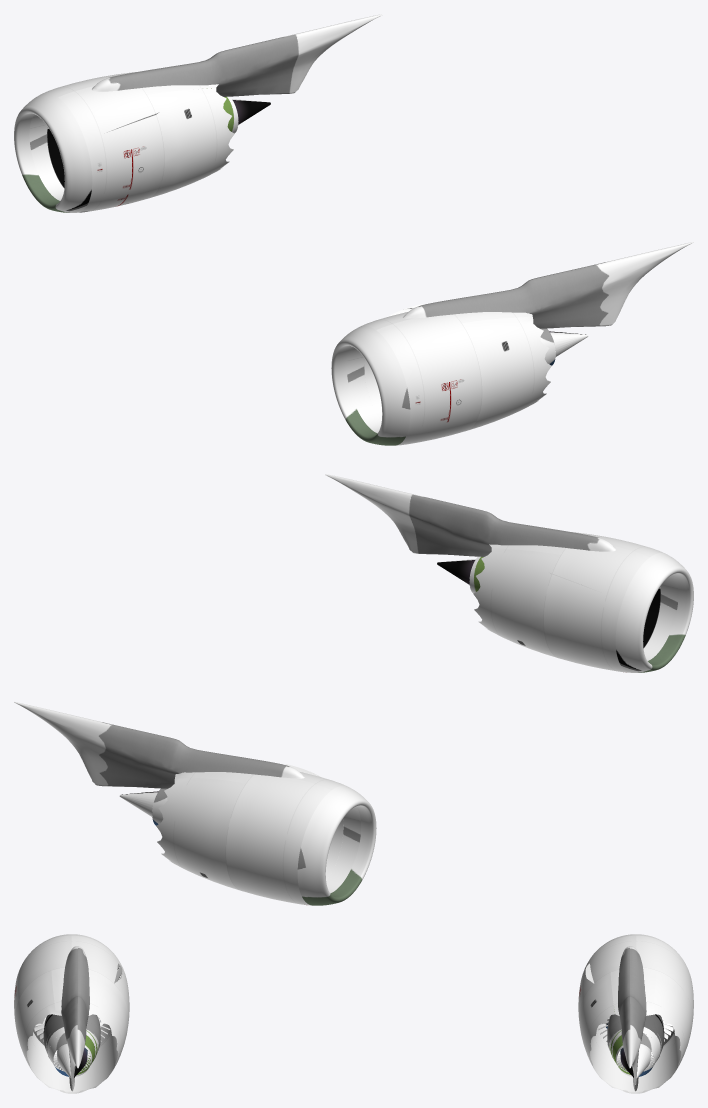
Rendered from GEnx.glb.
3 renders of one model, top to bottom at view 1: azimuth 30°, elevation 25°; view 2: azimuth 150°, elevation 25°; view 3: azimuth 270°, elevation 25°, orthographic. The views are drawn at different scales.
Parts seen in each view (by area): view 1: no1enge, no2enge, front, no1pylon, no2pylon, lhreverser, rhreverser; view 2: no2enge, no1enge, front, no2pylon, no1pylon, rhreverser, lhreverser; view 3: rhreverser, lhreverser, no1enge, no2enge, no1pylon, no2pylon, lhenginecore, rhenginecore, lhinside, rhinside, lhcone, rhcone (+1 smaller).
Boxes of the visible parts, box(x1,y1,x2,y2) form: no1enge: box(346, 312, 530, 445); no2enge: box(29, 72, 218, 212); front: box(14, 93, 410, 445); no1pylon: box(403, 242, 693, 328); no2pylon: box(92, 14, 382, 96); lhreverser: box(462, 314, 551, 430); rhreverser: box(121, 72, 234, 197); no2enge: box(177, 772, 361, 905); no1enge: box(489, 532, 678, 672); front: box(297, 553, 693, 905); no2pylon: box(14, 702, 304, 788); no1pylon: box(325, 474, 616, 556); rhreverser: box(156, 774, 245, 890); lhreverser: box(473, 532, 586, 657); rhreverser: box(579, 970, 692, 1093); lhreverser: box(15, 970, 128, 1093); no1enge: box(14, 935, 129, 1047); no2enge: box(578, 935, 693, 1047); no1pylon: box(61, 946, 89, 1084); no2pylon: box(618, 946, 646, 1084); lhenginecore: box(46, 1027, 98, 1076); rhenginecore: box(609, 1027, 661, 1076); lhinside: box(43, 1014, 100, 1091); rhinside: box(607, 1014, 664, 1091); lhcone: box(57, 1044, 87, 1078); rhcone: box(620, 1044, 650, 1078).
Size of the model in its own units: 11.73 by 4.09 by 22.72.
Materials: 2 (2 with a texture image).
